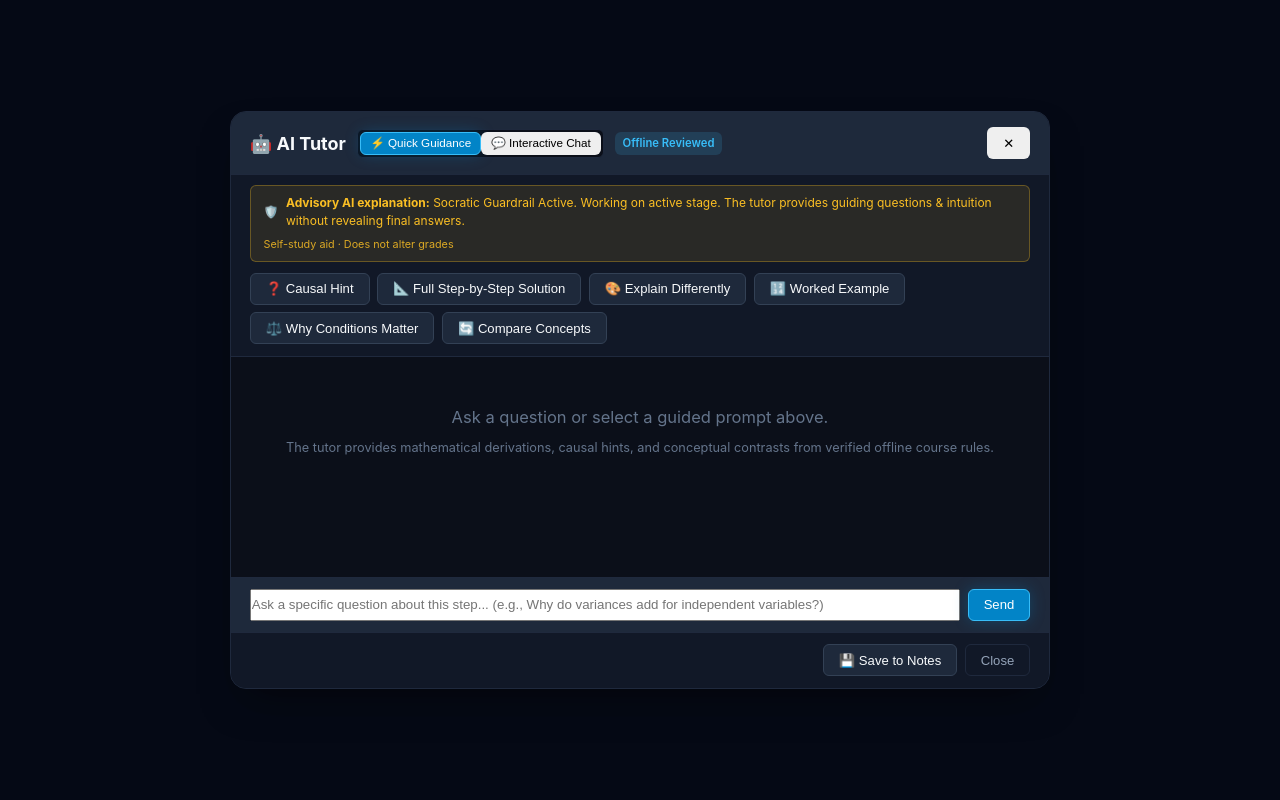
Test: AITutorPanel Component › switches to Interactive Chat tab and displays conversation threads and messages
Switch to Interactive Chat tab
Click the button "💬 Interactive Chat" at (541, 143), box [481,132,601,155]
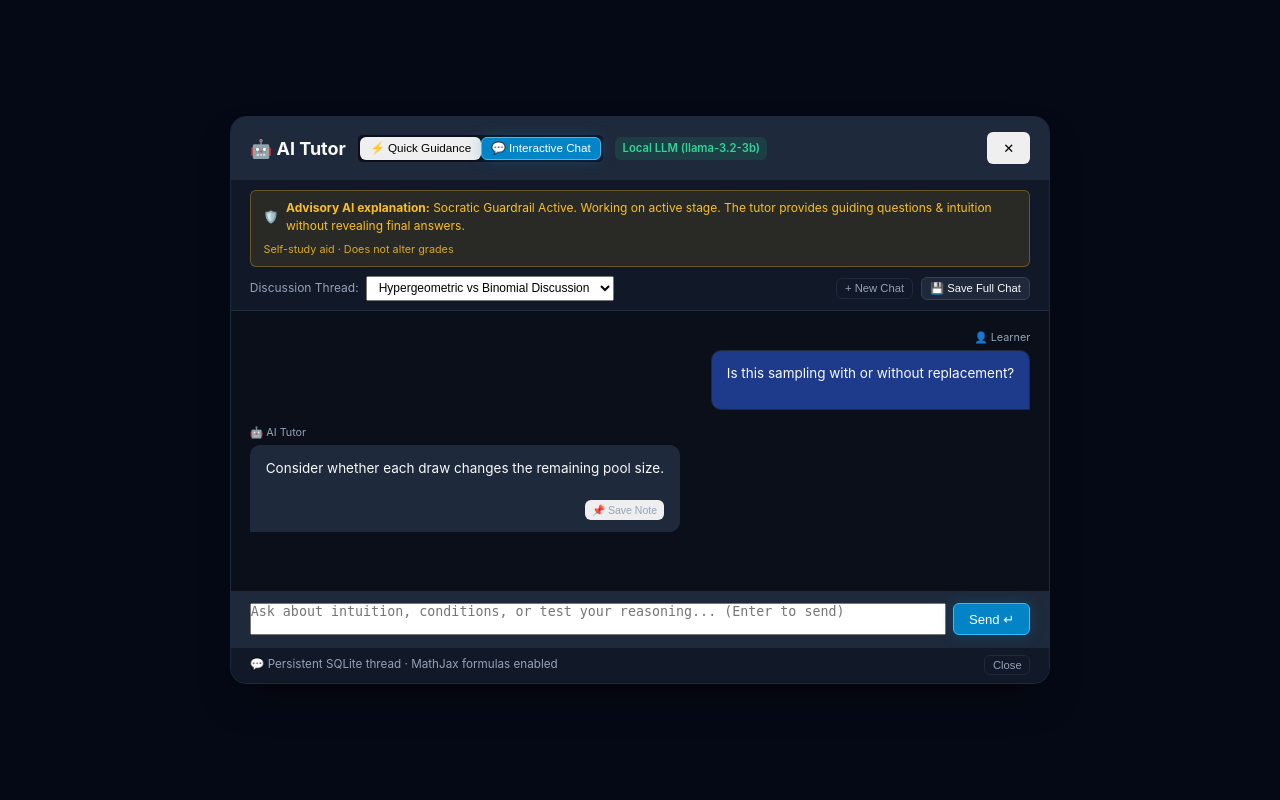
Expected: the text "Is this sampling with or without replacement?" is shown, [727,362,1014,385]
Expected: the text "Consider whether each draw changes the remaining pool size." is shown, [266,457,664,480]
Expected: the button "💾 Save Full Chat" is shown, [921,277,1030,300]
